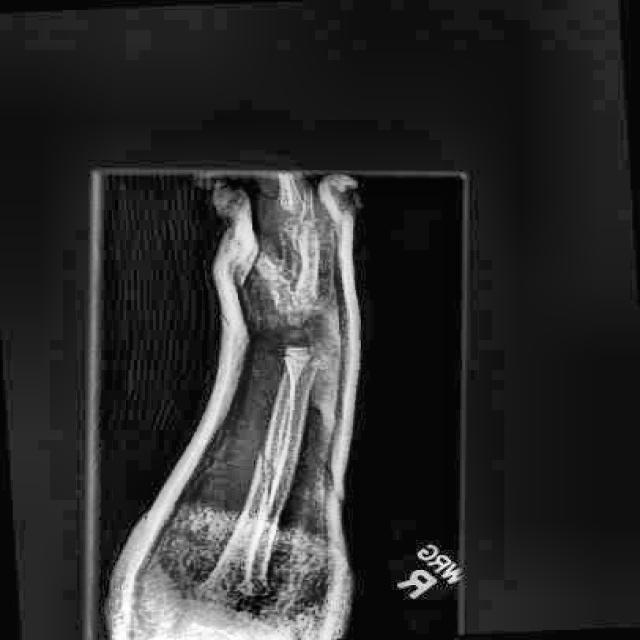forearm fracture: (216, 437, 310, 513)
